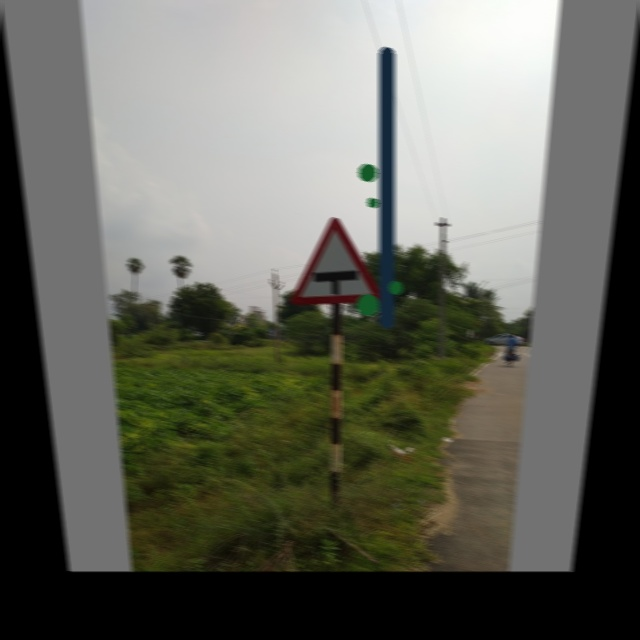T_Intersection: (277, 198, 387, 312)
